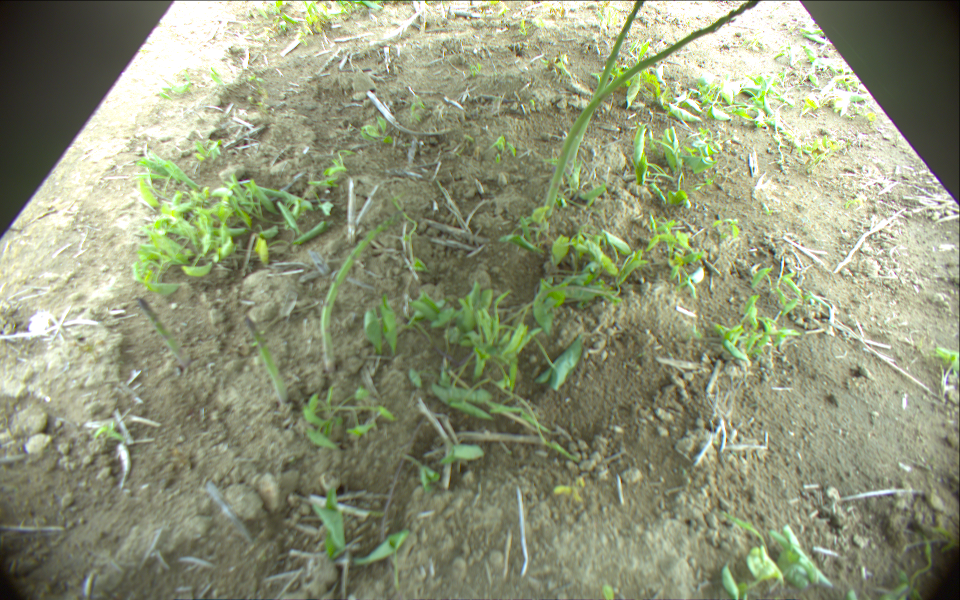aspa: (540, 1, 759, 220), (566, 1, 646, 179), (317, 214, 395, 372), (246, 316, 289, 404), (138, 297, 186, 369)
